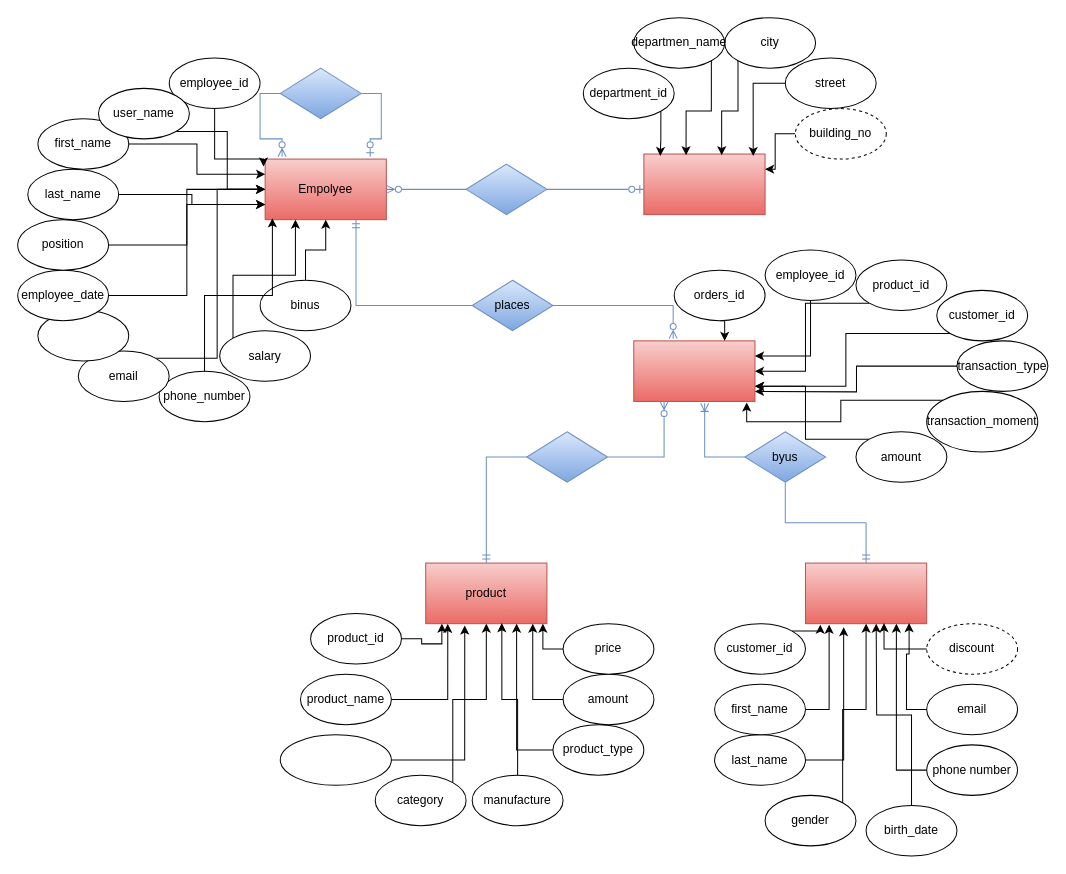
This 1066x874 diagram has some shape labels left out. Here are the shapes that lost their labels. From the top down, the box of each, then its label:
(279, 67, 361, 119): manages
(465, 163, 547, 215): works for
(643, 153, 765, 215): department
(37, 310, 129, 361): manager_id
(633, 340, 755, 401): Orders
(526, 431, 608, 482): sells
(804, 562, 927, 624): customer
(279, 734, 391, 785): product_description
